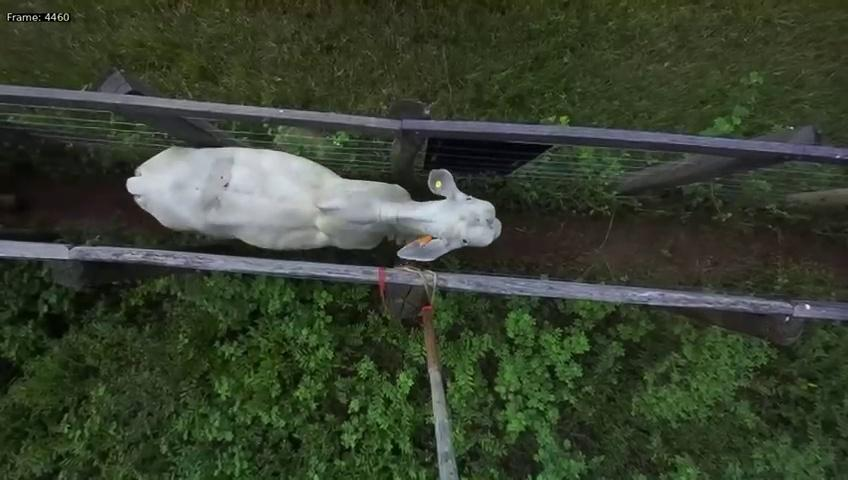cattle: (125, 137, 502, 264)
